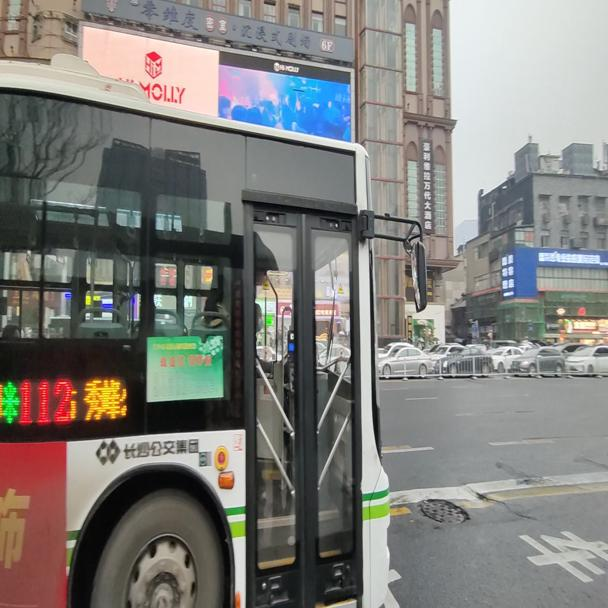bus: (0, 52, 426, 597)
screen: (20, 375, 70, 427)
